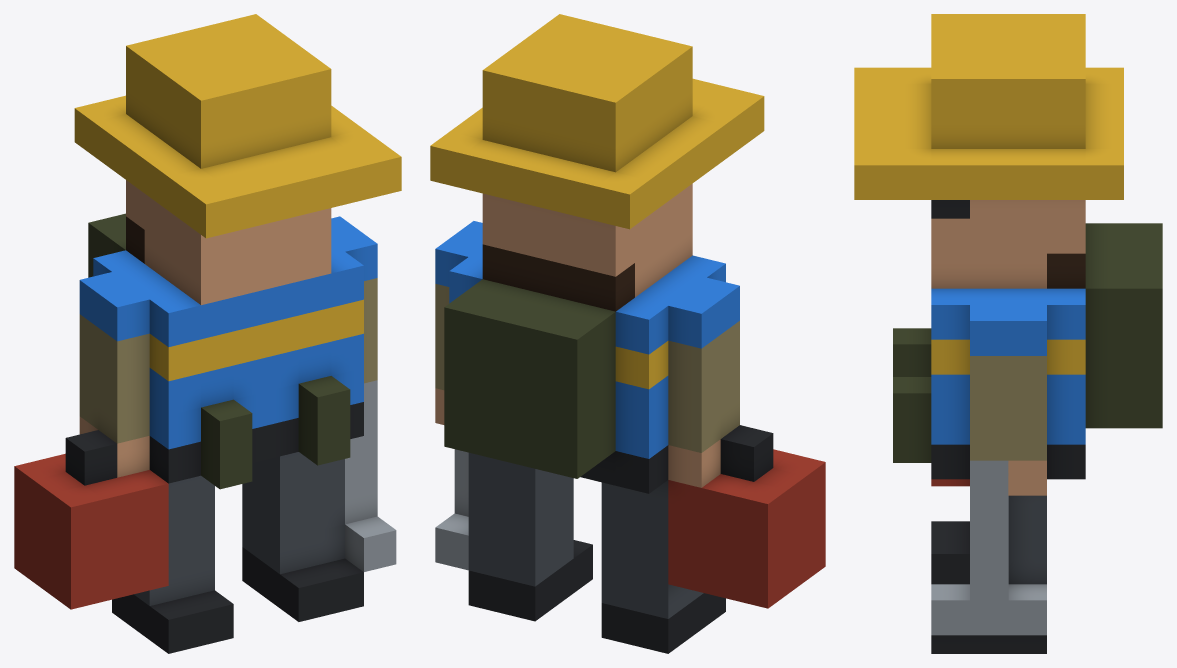
The model's file is cm_engineer_1.glb.
3 renders of one model, left to right at view 1: azimuth 30°, elevation 25°; view 2: azimuth 150°, elevation 25°; view 3: azimuth 270°, elevation 25°, orthographic. The views are drawn at different scales.
Visible parts, largest first — view 1: cm_engineer_1_body; view 2: cm_engineer_1_body; view 3: cm_engineer_1_body.
Part boxes in pixels (box(x1,y1,x2,y2)): cm_engineer_1_body: box(14, 14, 401, 653); cm_engineer_1_body: box(430, 14, 825, 653); cm_engineer_1_body: box(854, 14, 1162, 653).
Bounding box in the file's own units: 0.625 × 1 × 0.5.
1 material, 1 textured.
